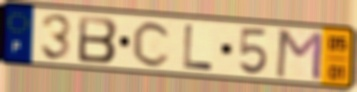3: (39, 13, 73, 62)
5: (238, 26, 270, 77)
B: (77, 14, 120, 65)
C: (130, 19, 174, 69)
L: (181, 22, 214, 72)
M: (273, 28, 325, 83)
